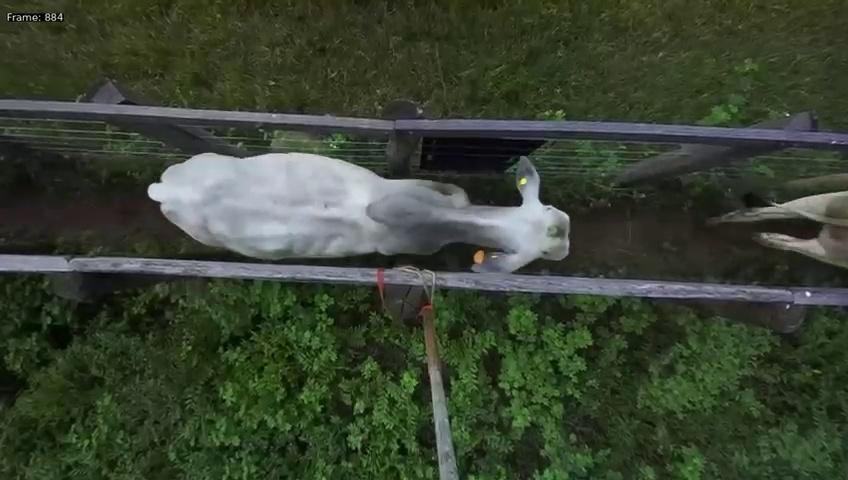cattle: (147, 139, 572, 274)
